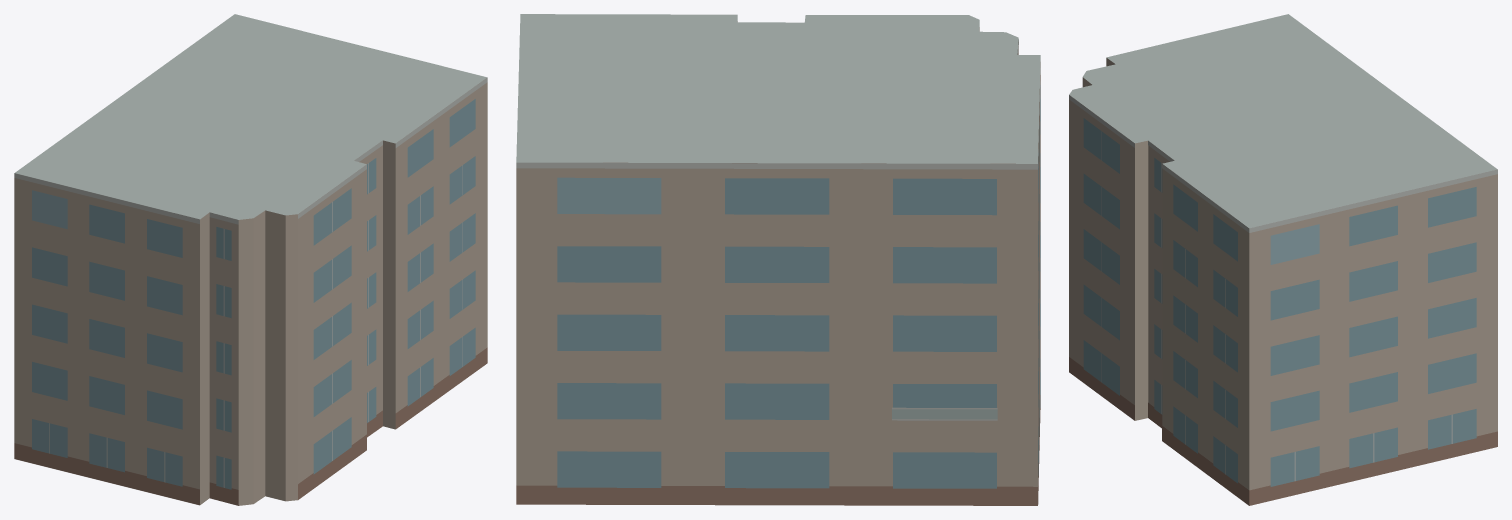
File: survey-upis-32976815.glb
The picture shows the model from 3 angles, left to right: view 1: azimuth 30°, elevation 25°; view 2: azimuth 150°, elevation 25°; view 3: azimuth 270°, elevation 25°; orthographic projection. The views are drawn at different scales.
Visible parts, largest first — view 1: survey-upis-32976815.tmp; view 2: survey-upis-32976815.tmp; view 3: survey-upis-32976815.tmp.
Part boxes in pixels (bbox=[...]): survey-upis-32976815.tmp: bbox=[14, 14, 487, 505]; survey-upis-32976815.tmp: bbox=[516, 14, 1040, 505]; survey-upis-32976815.tmp: bbox=[1069, 14, 1497, 505].
Size of the model in its own units: 24.04 by 14.5 by 20.31.
